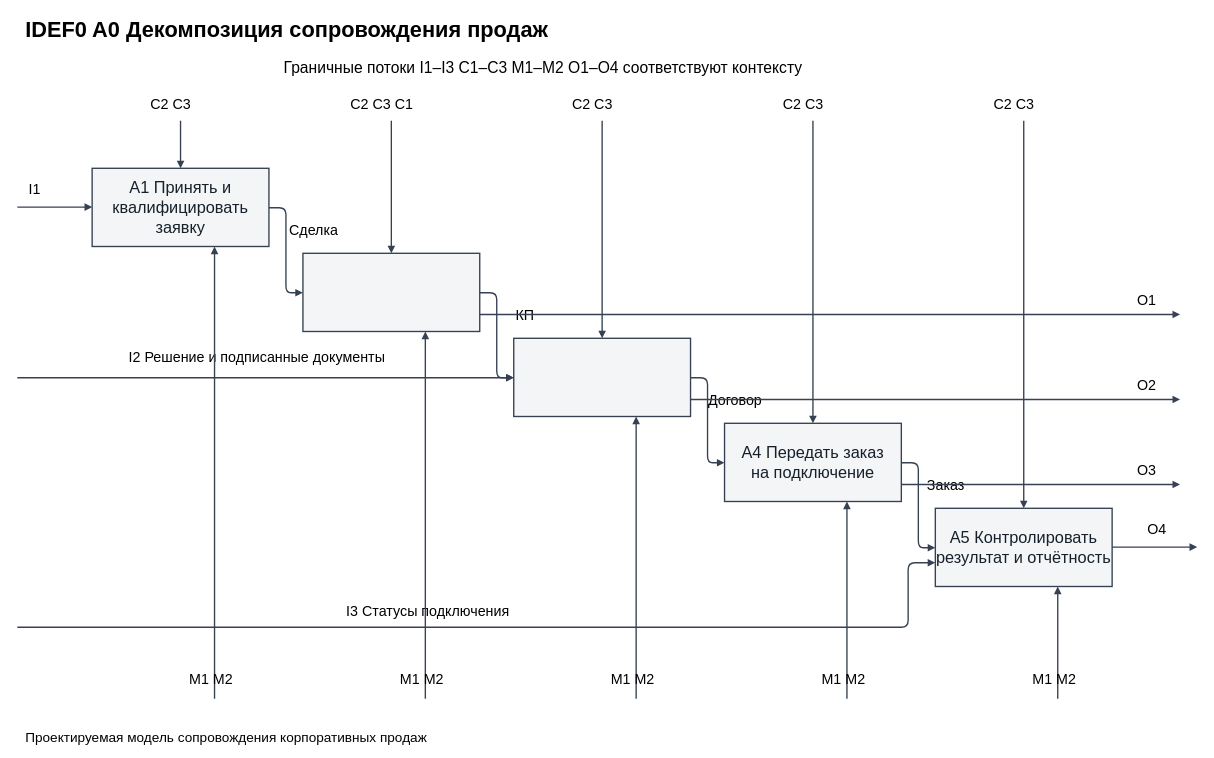
Image size: 1214x758. Some labels were removed from this diagram. Each missing label, with the box of its shape:
A2 Подготовить и согласовать КП: (302, 252, 480, 332)
A3 Оформить договор: (513, 337, 691, 417)
